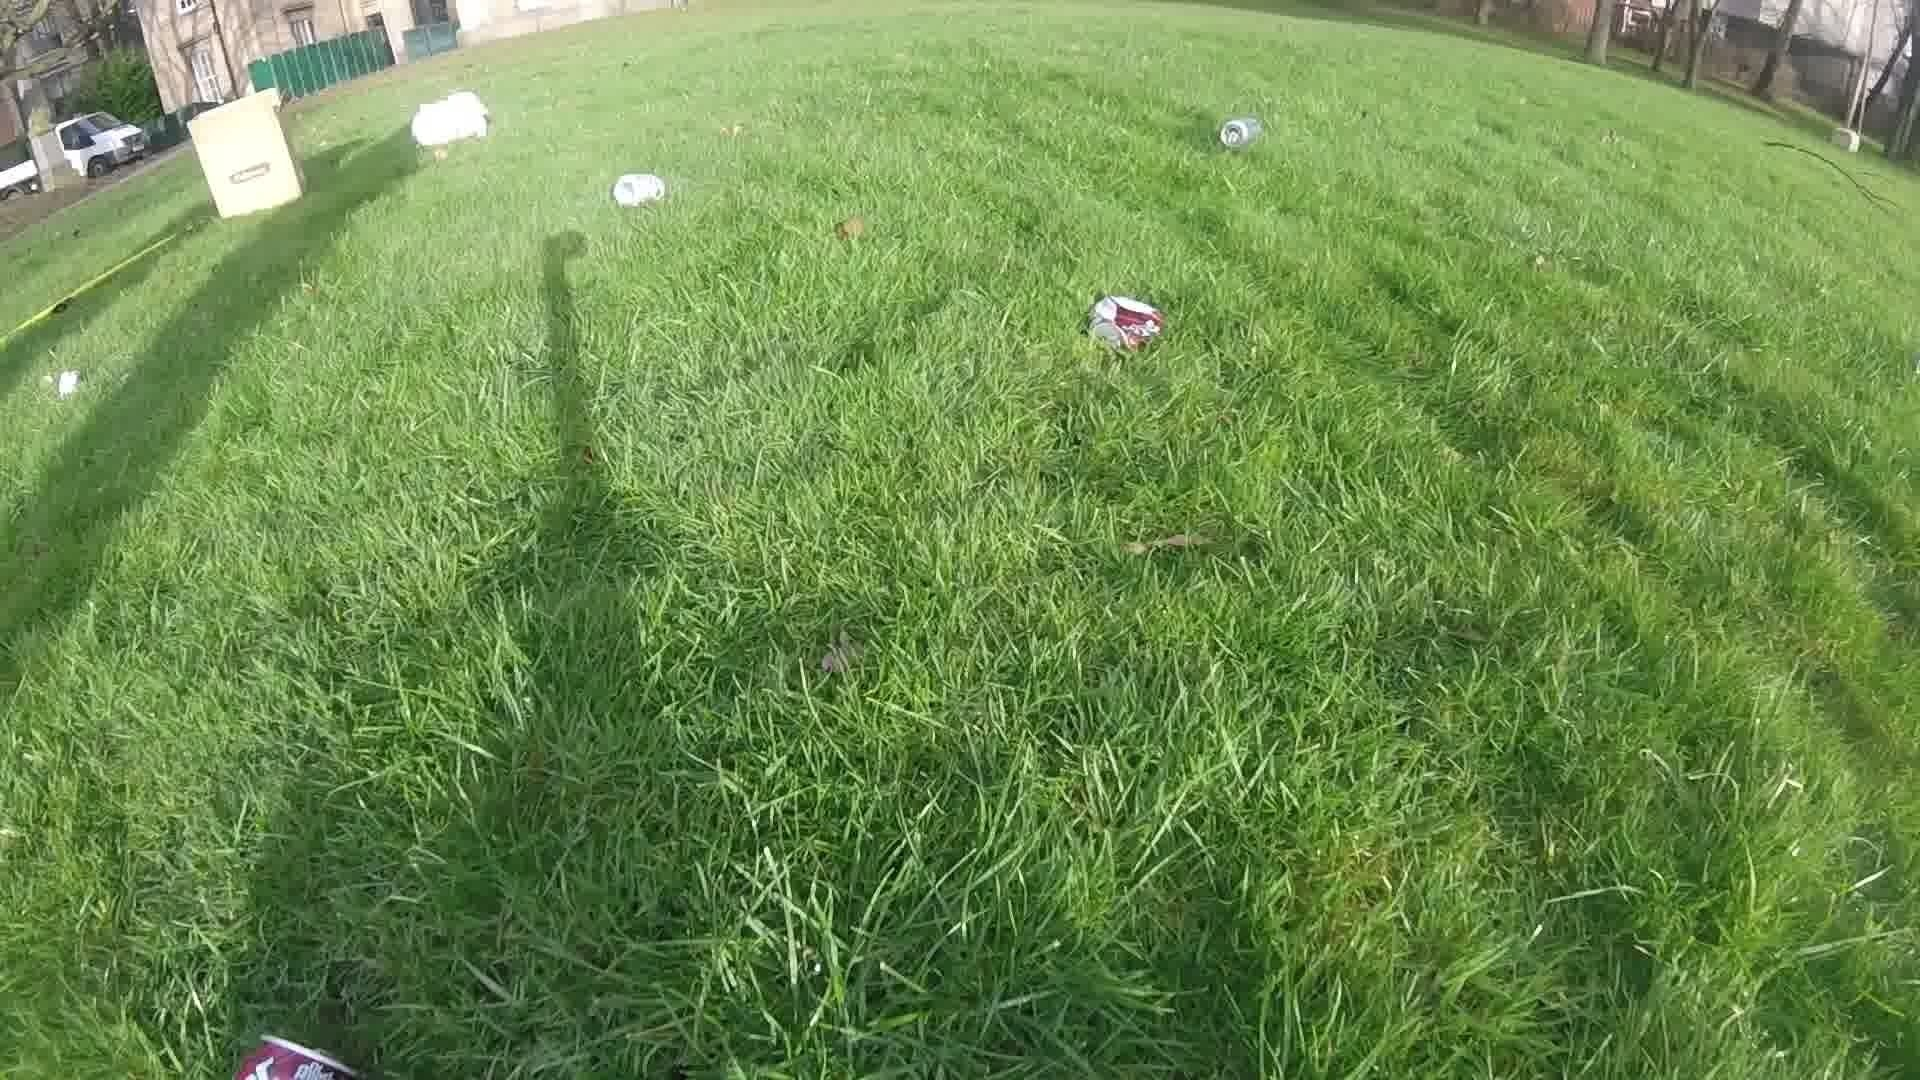litter: (189, 88, 309, 222), (231, 1031, 361, 1077), (409, 87, 489, 149), (1088, 297, 1162, 356), (611, 175, 663, 204), (1218, 120, 1258, 145), (57, 371, 84, 398)
